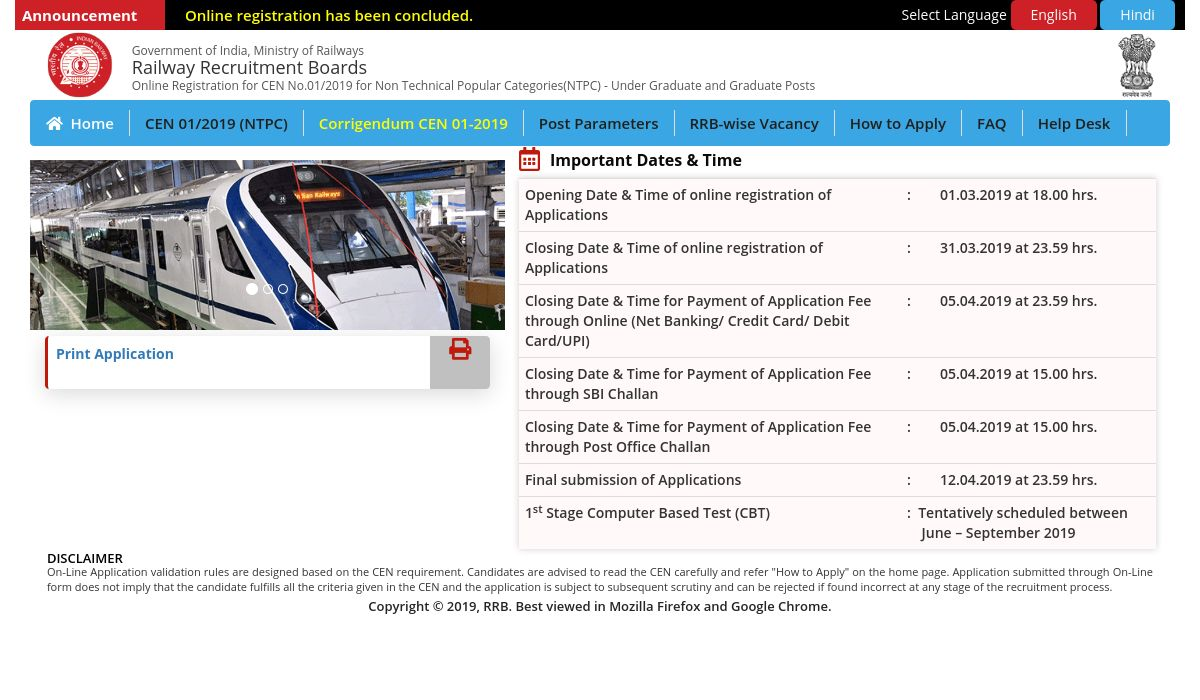menu: (29, 99, 1170, 147)
menu-button: (305, 99, 523, 144), (130, 99, 303, 144), (675, 100, 835, 145), (524, 99, 674, 140), (834, 99, 961, 145), (1022, 99, 1126, 145), (959, 99, 1022, 144), (67, 100, 119, 144), (41, 101, 70, 145)
